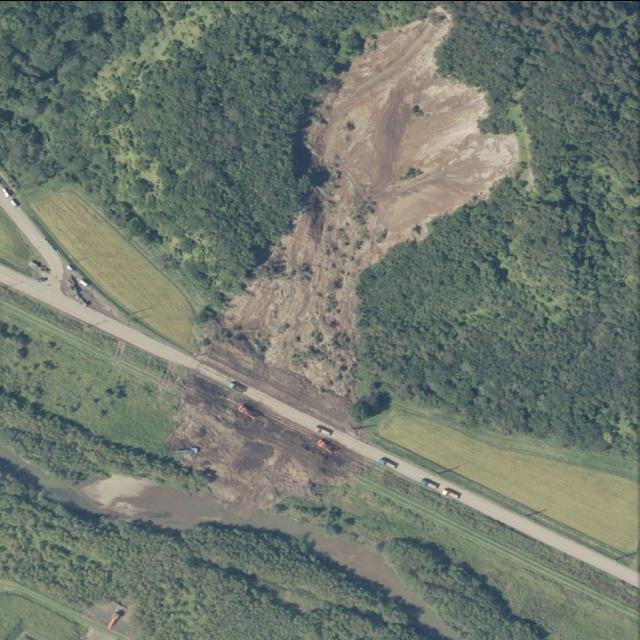landslide: (225, 6, 519, 397)
